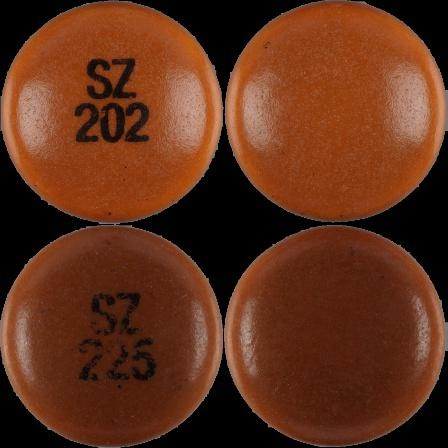64725-5914: (0, 0, 224, 224)
